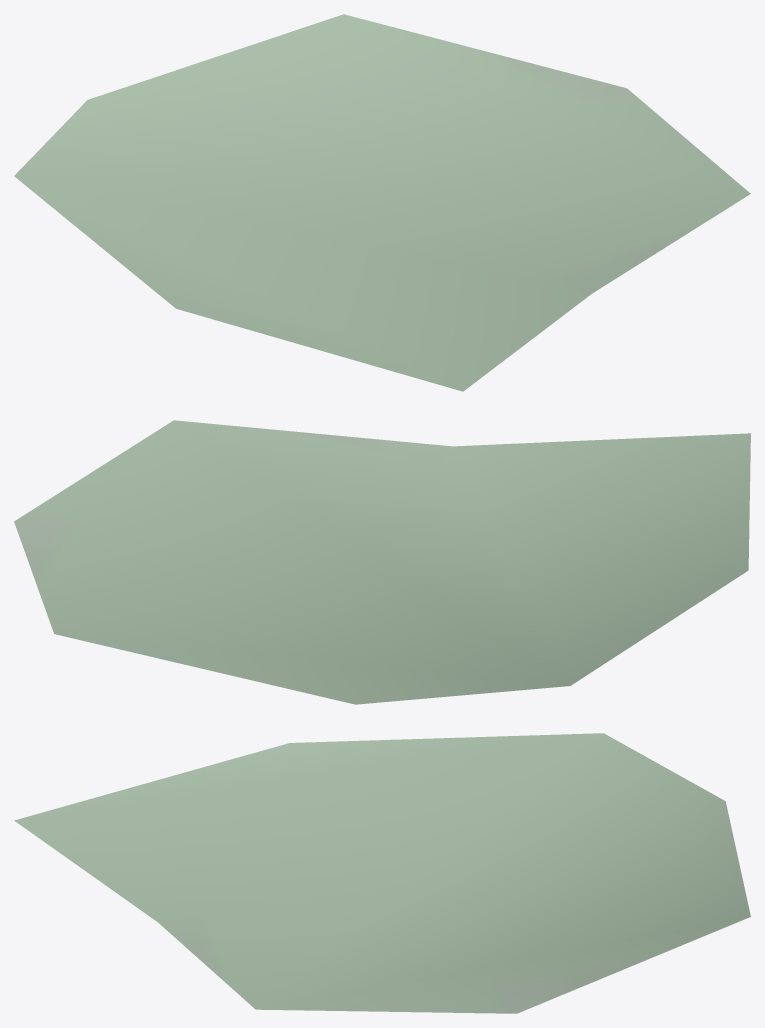
File: TROLLHOLE02_HOLECAP53.fbx
3 renders of one model, top to bottom at view 1: azimuth 30°, elevation 25°; view 2: azimuth 150°, elevation 25°; view 3: azimuth 270°, elevation 25°, orthographic. The views are drawn at different scales.
Visible parts, largest first — view 1: TROLLHOLE02_HOLECAP53; view 2: TROLLHOLE02_HOLECAP53; view 3: TROLLHOLE02_HOLECAP53.
Part boxes in pixels (box(x1,y1,x2,y2)): TROLLHOLE02_HOLECAP53: box(14, 14, 750, 391); TROLLHOLE02_HOLECAP53: box(14, 420, 750, 704); TROLLHOLE02_HOLECAP53: box(14, 733, 750, 1013).
Size of the model in its own units: 17868 by 1088 by 20984.
1 material, 1 textured.
